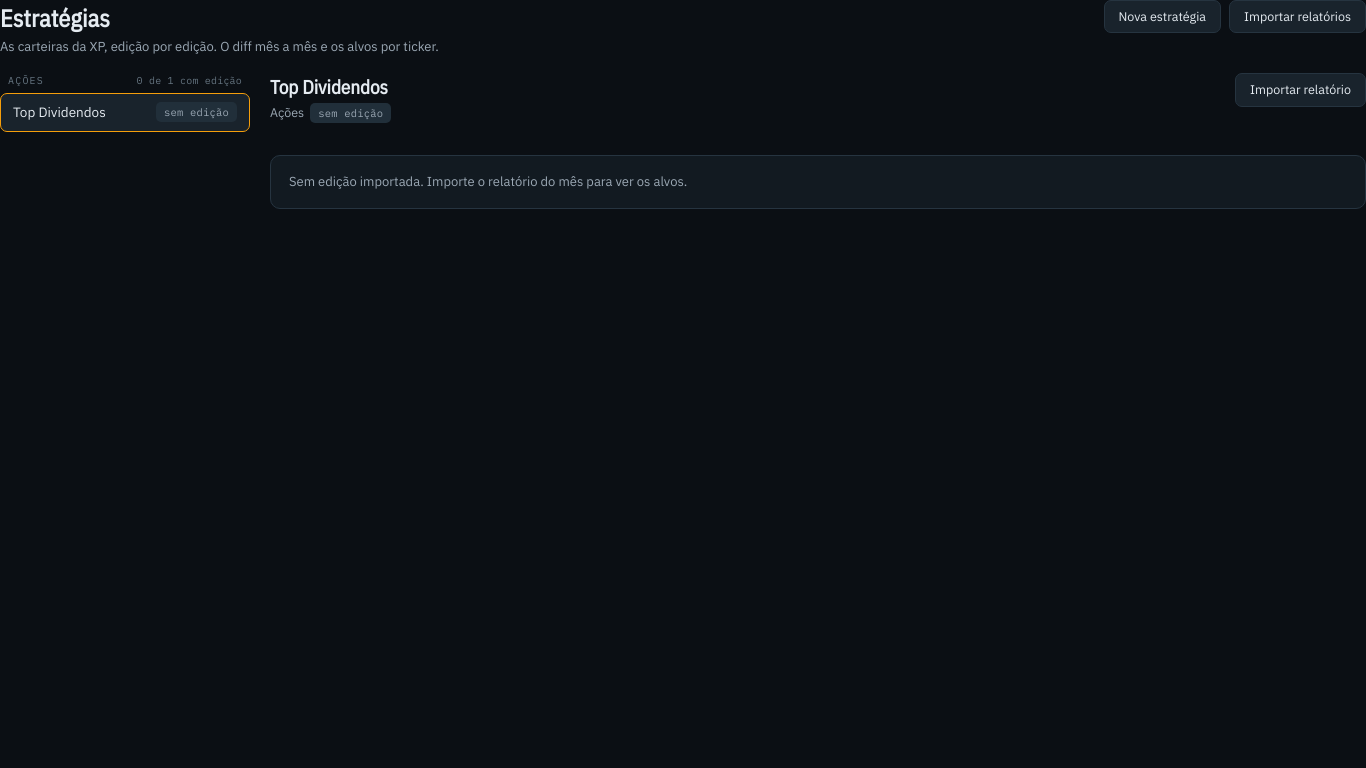
Test case: the create modal › keeps the modal open and shows a server rejection inline
The width and height of the screenshot is (1366, 768).
Click the button "Nova estratégia".
click(1162, 17)  # box [1104,0,1221,33]
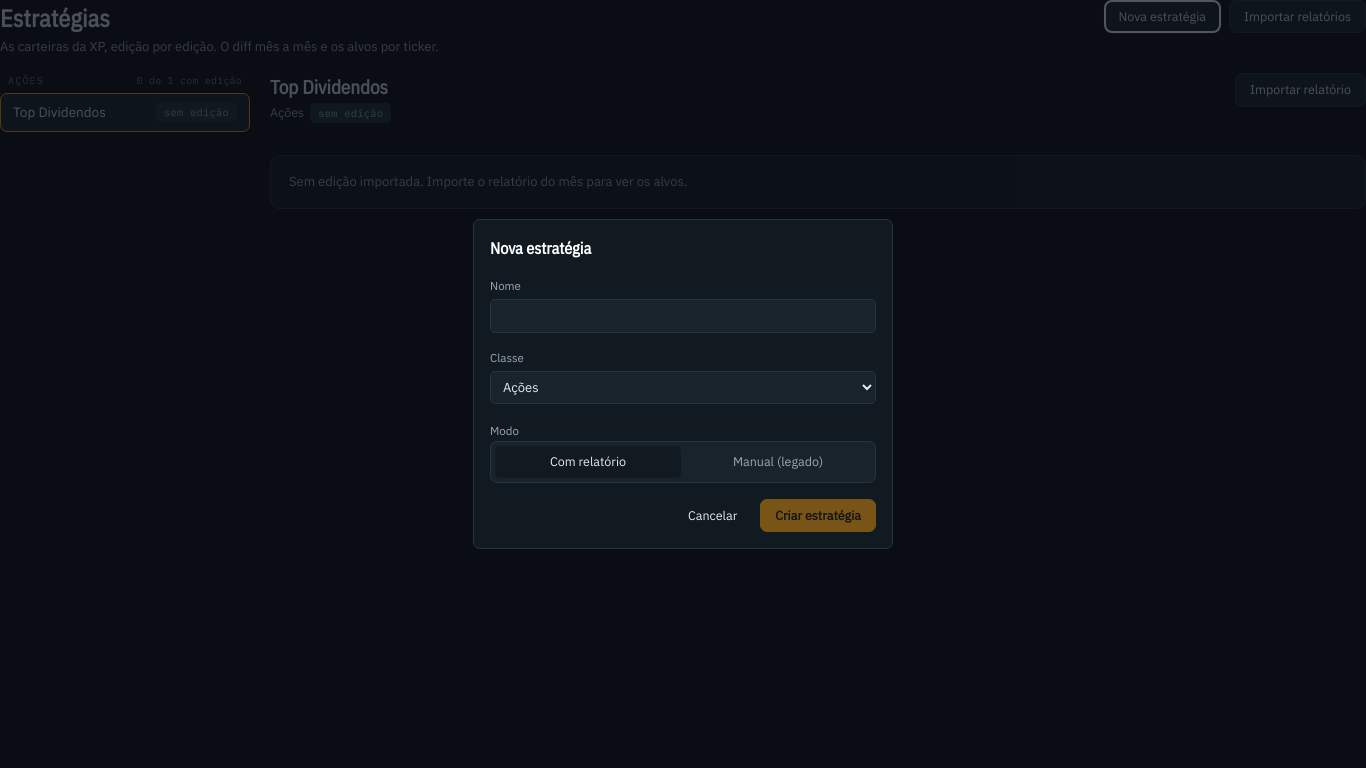
Type "Legado FIIs" into the field labelled "Nome".
click(683, 316); type("Legado FIIs")  # box [490,299,876,333]
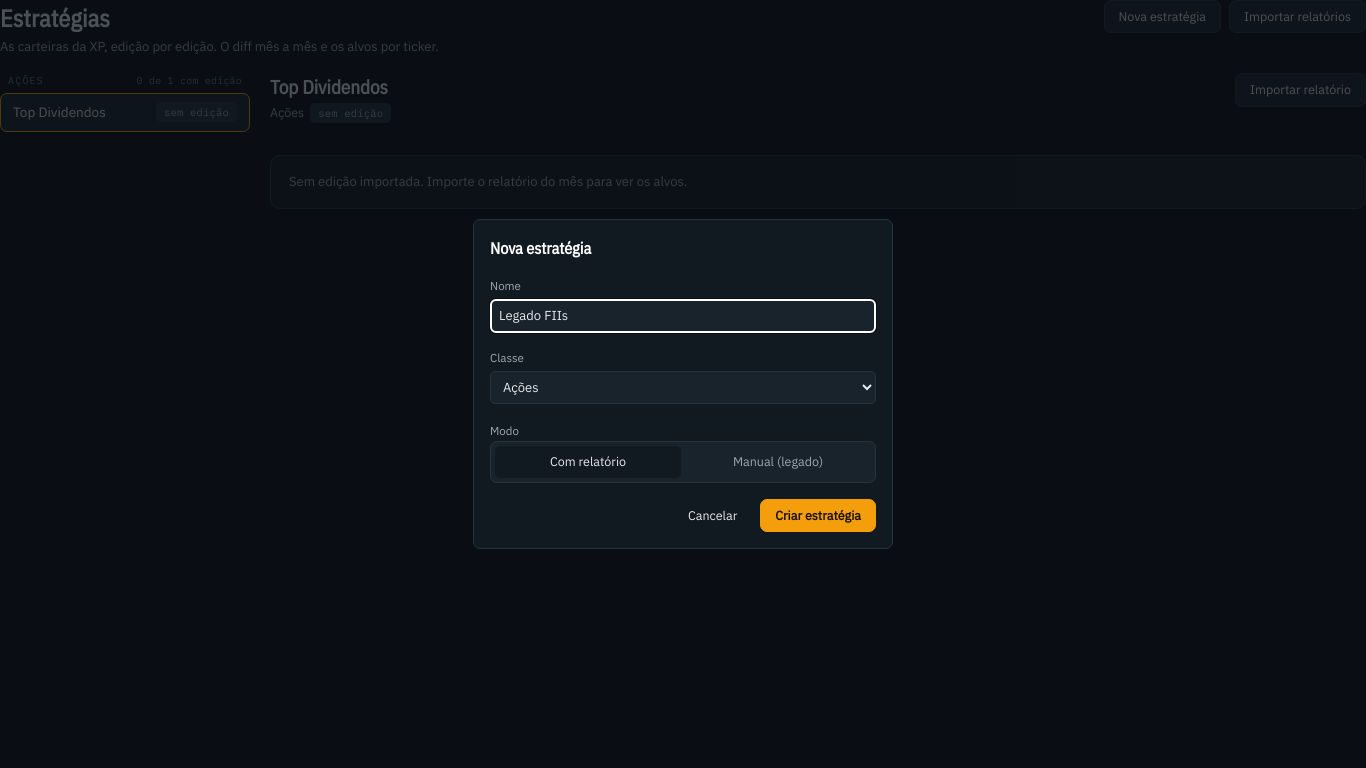
Select "Fundos imob." in the dropdown labelled "Classe" at (683, 387), box [490,371,876,404]
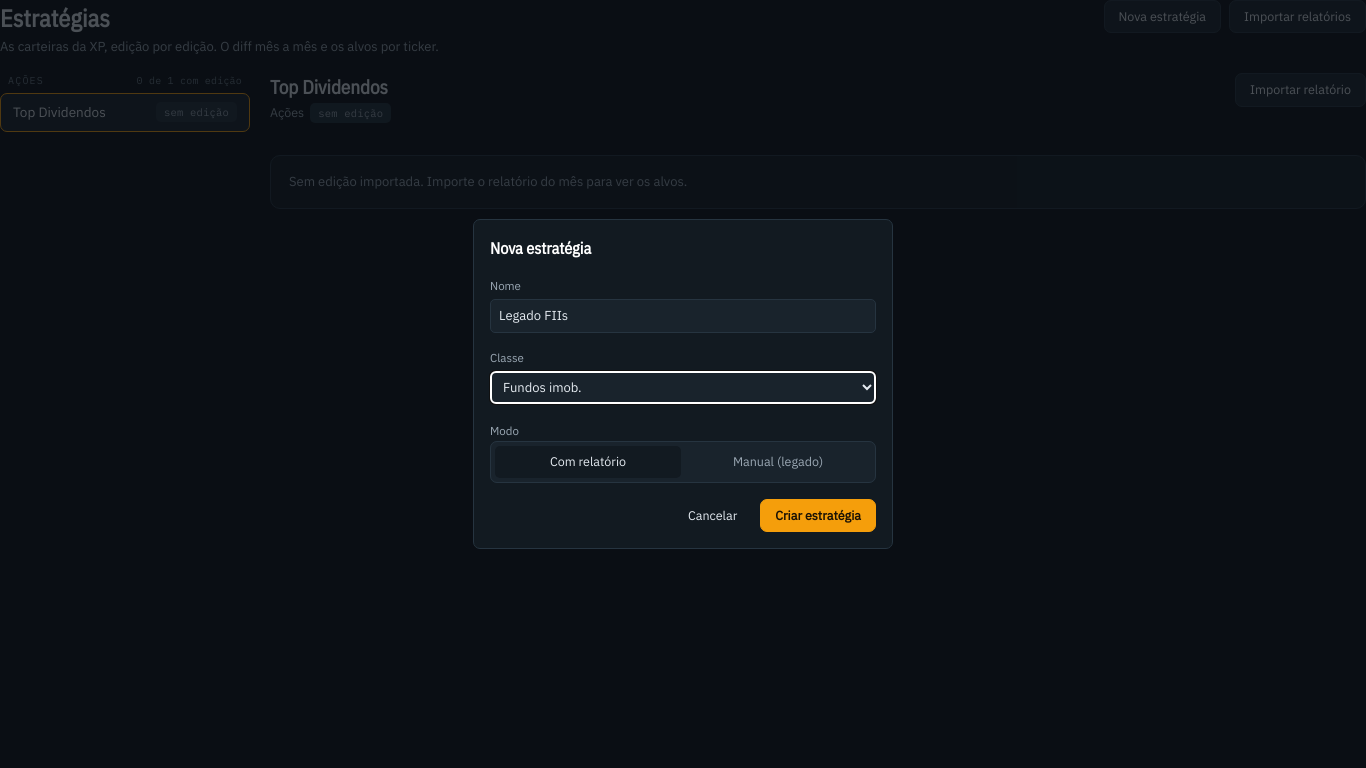
Click the radio button labelled "Manual (legado)".
click(778, 461)  # box [733,453,823,469]
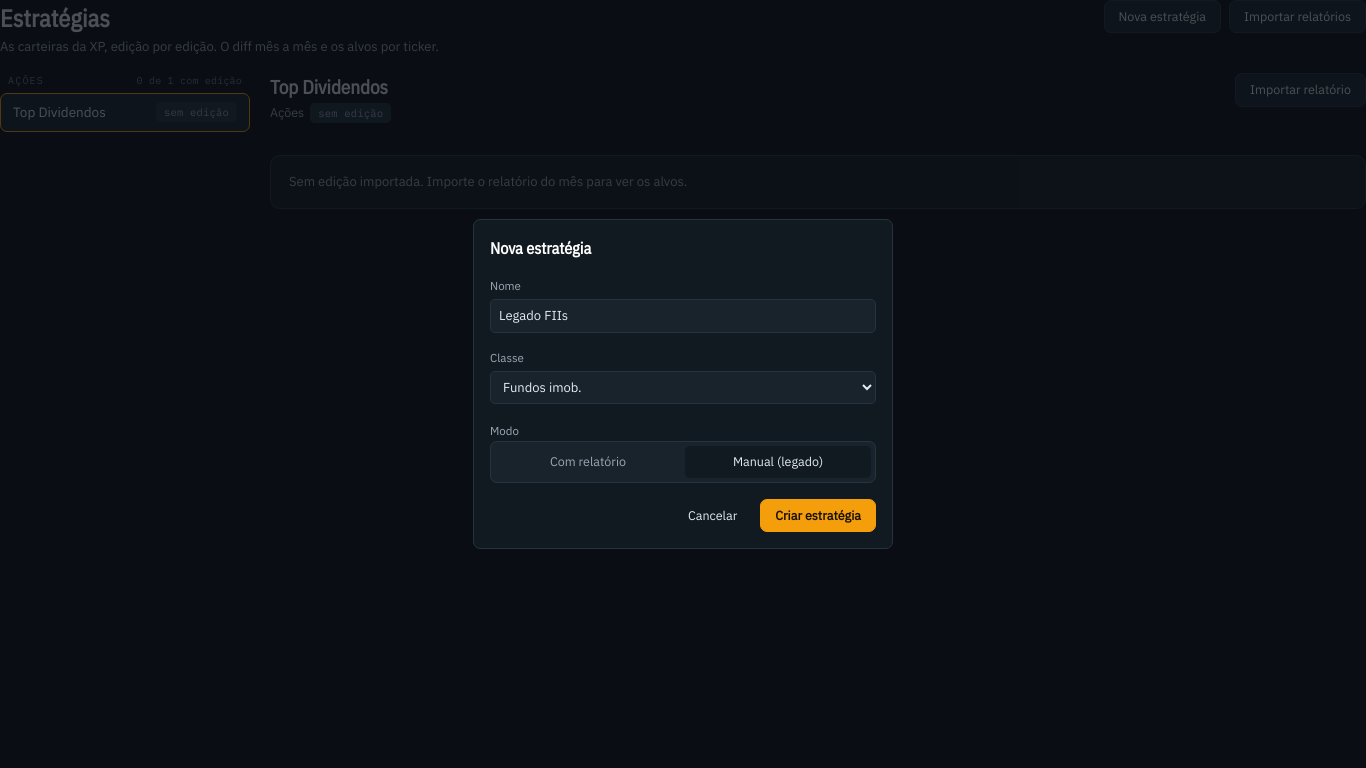
Click the button "Criar estratégia".
click(818, 515)  # box [760,499,876,532]
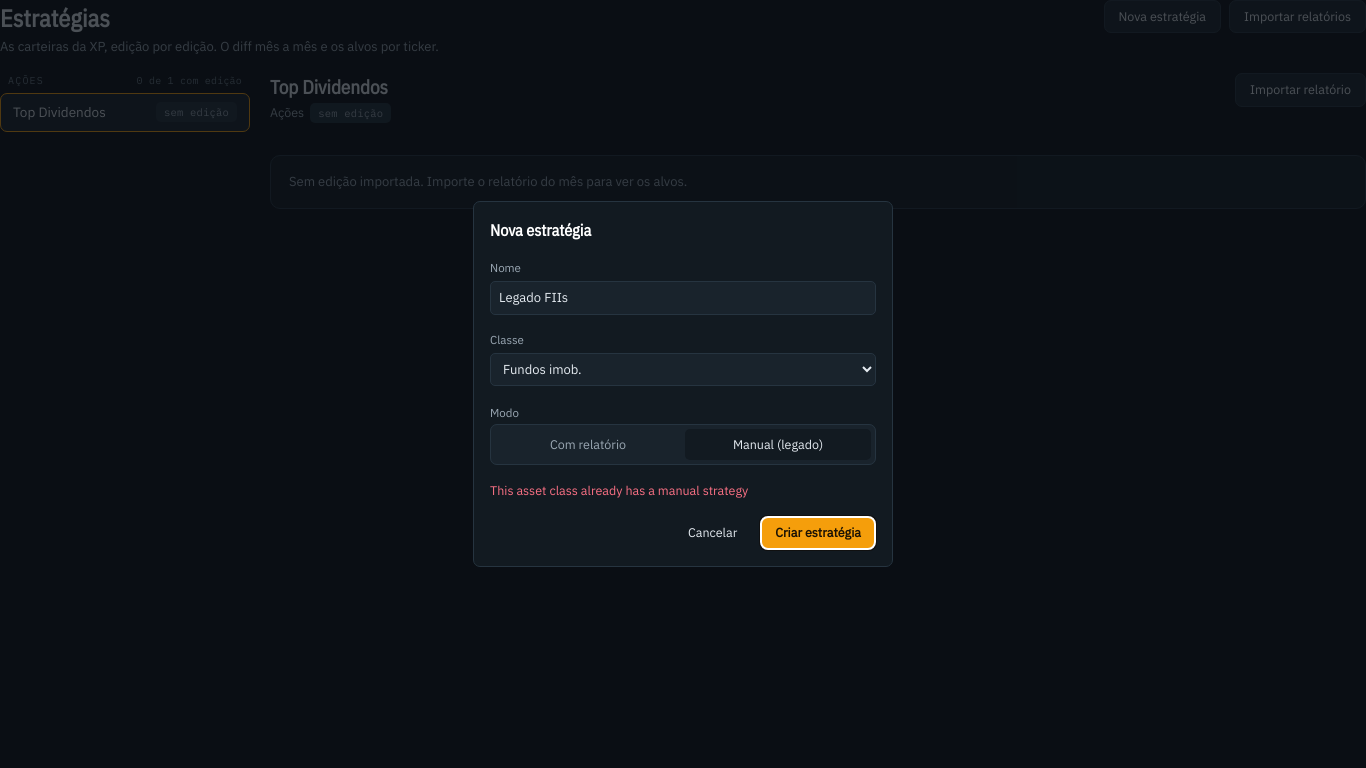
Now the dialog "Nova estratégia" is shown
Now the text "This asset class already has a manual strategy" is shown, box [490,482,748,498]
